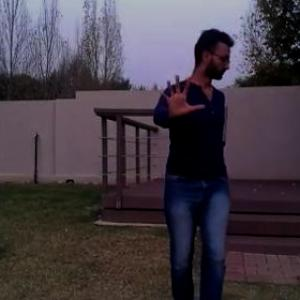follow_hand: (154, 65, 207, 124)
